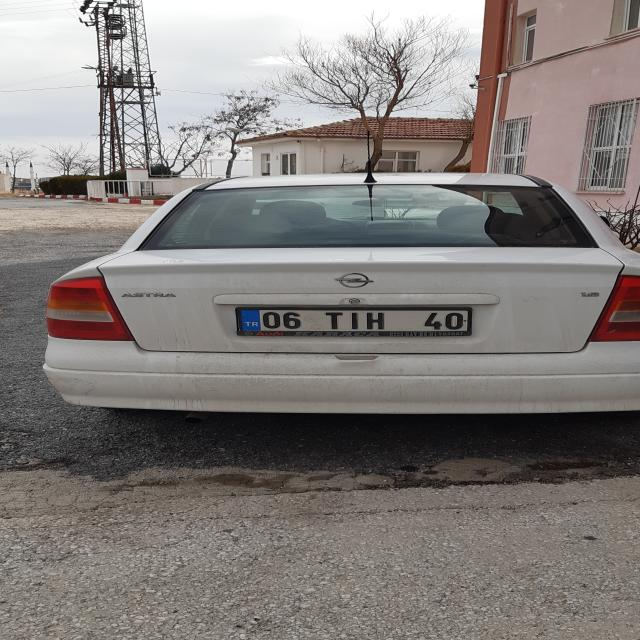plate: (239, 310, 470, 332)
